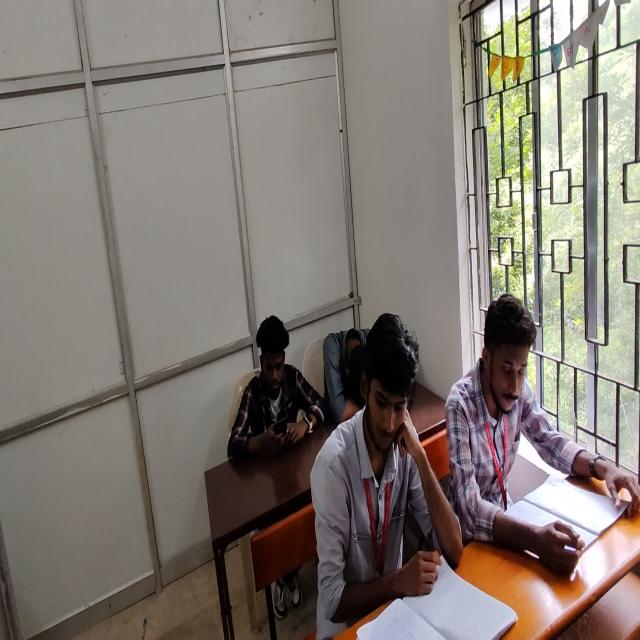reading: (443, 293, 639, 574), (310, 313, 449, 639)
sleeping: (322, 326, 370, 427)
using_mobile: (226, 313, 324, 460)
